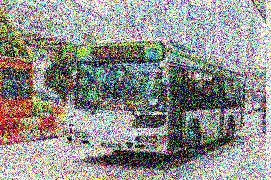bus: (72, 39, 247, 157), (0, 57, 37, 143)
